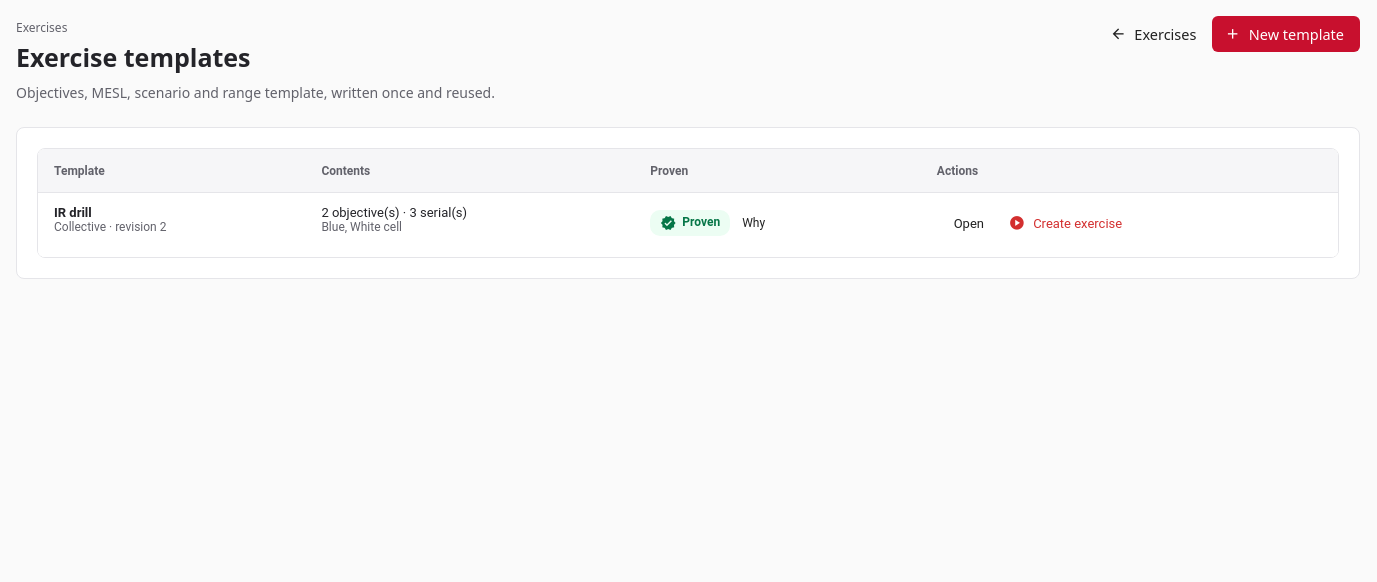
ExerciseTemplatesComponent › offers Create exercise to staff and opens the create form
The width and height of the screenshot is (1377, 582).
Click the button "Create exercise" at {"x": 1066, "y": 223}, box x1=1001 y1=205 x2=1130 y2=241
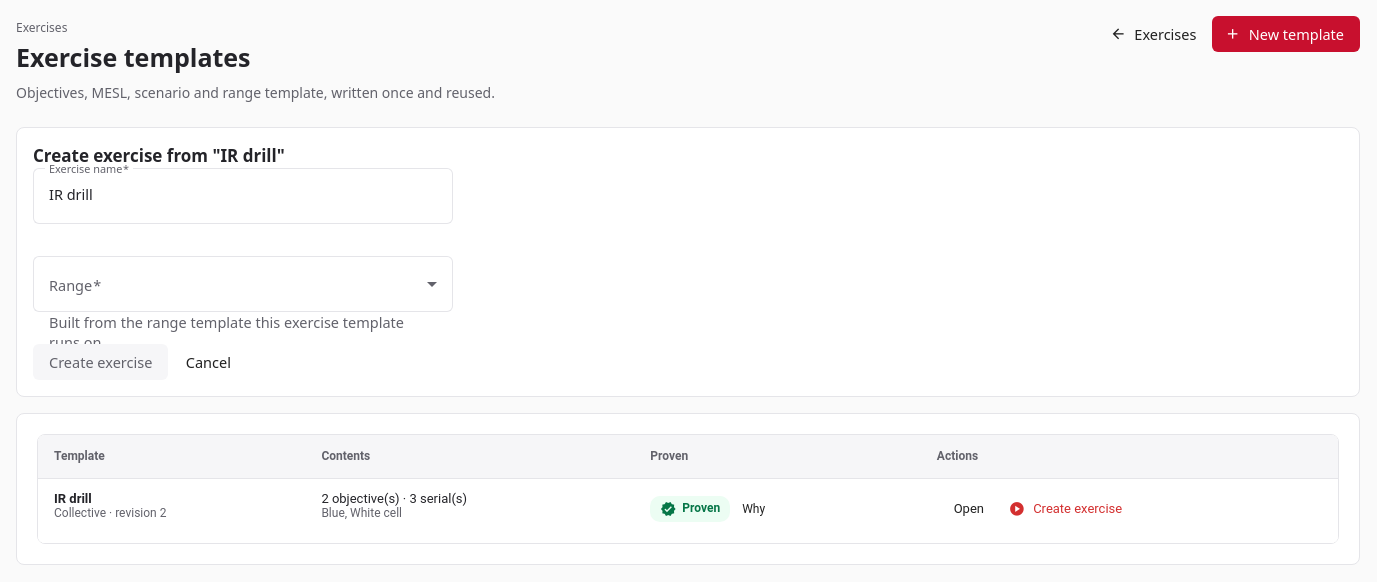
Check: the element that starts with "Exercise name" is shown, box x1=33 y1=168 x2=453 y2=380
